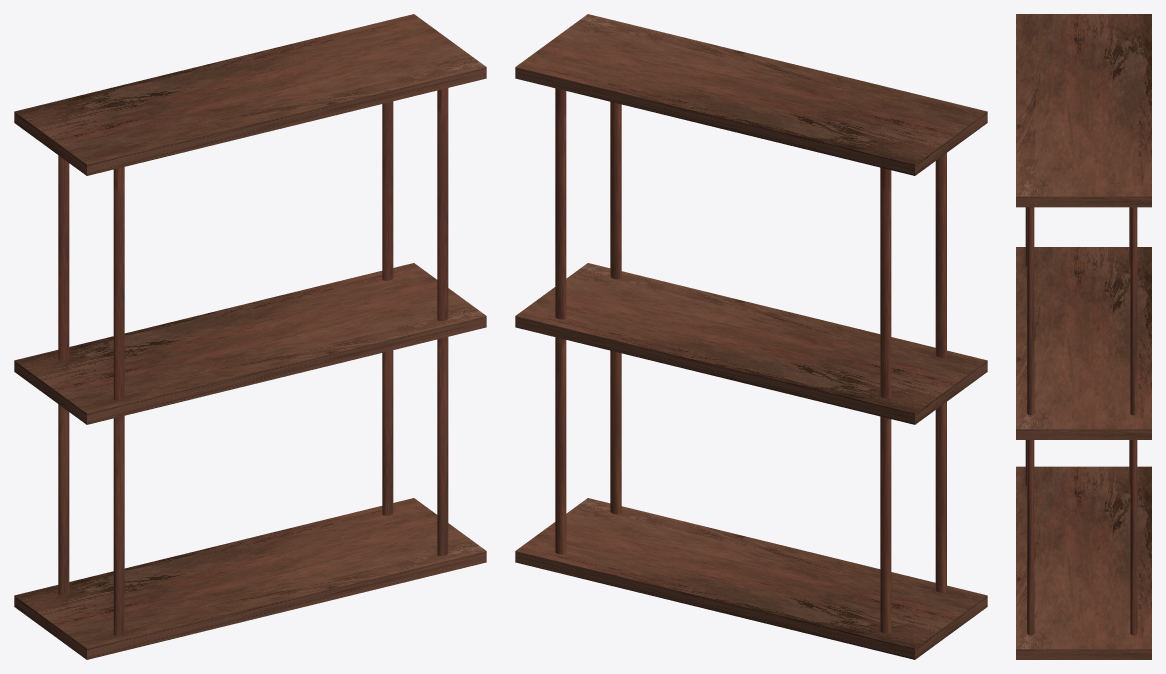
Rendered from Rack.obj.
The picture shows the model from 3 angles, left to right: view 1: azimuth 30°, elevation 25°; view 2: azimuth 150°, elevation 25°; view 3: azimuth 270°, elevation 25°; orthographic projection. The views are drawn at different scales.
Visible parts, largest first — view 1: Rack:group2_pasted__pCylinder1; view 2: Rack:group2_pasted__pCylinder1; view 3: Rack:group2_pasted__pCylinder1.
Boxes of the visible parts, bbox=[...] form: Rack:group2_pasted__pCylinder1: bbox=[14, 14, 486, 659]; Rack:group2_pasted__pCylinder1: bbox=[515, 14, 987, 659]; Rack:group2_pasted__pCylinder1: bbox=[1016, 14, 1151, 659].
Size of the model in its own units: 1.8 by 2.16 by 0.5665.
Materials: 2 (2 with a texture image).
